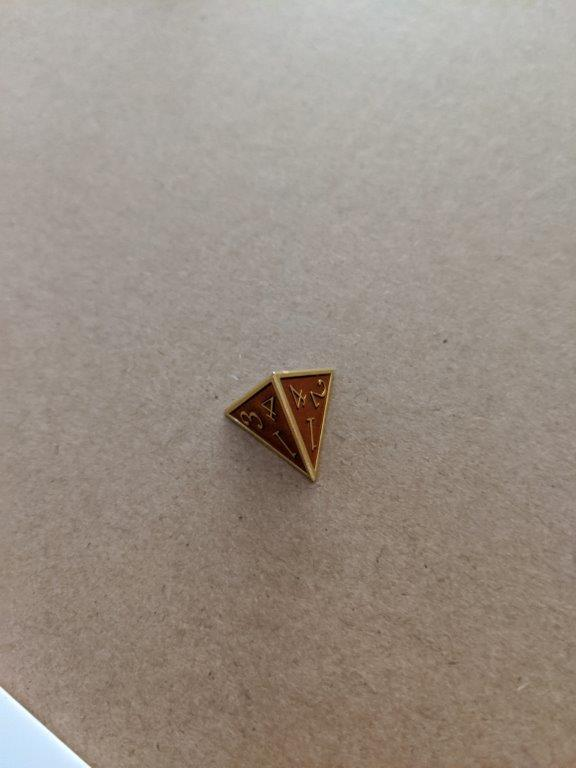d4-4: (222, 366, 335, 483)
